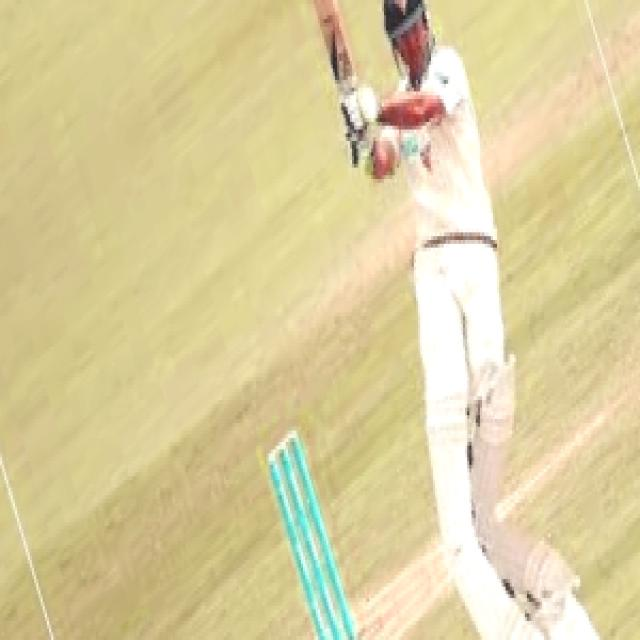toe: (314, 0, 341, 8)
